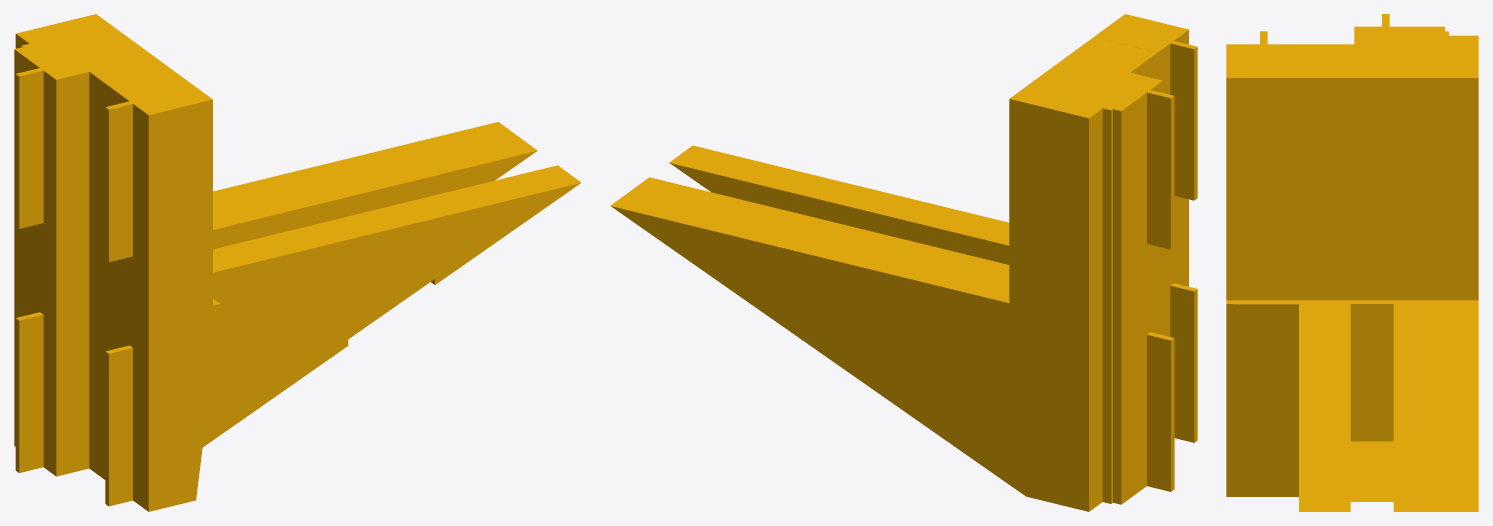
File: transmission_hinge_Mirrored.obj
The picture shows the model from 3 angles, left to right: view 1: azimuth 30°, elevation 25°; view 2: azimuth 150°, elevation 25°; view 3: azimuth 270°, elevation 25°; orthographic projection. The views are drawn at different scales.
Parts seen in each view (by area): view 1: mesh488, mesh468, mesh527, mesh528, mesh484, mesh505, mesh502, mesh529, mesh535, mesh506, mesh538, mesh530 (+7 smaller); view 2: mesh509, mesh505, mesh516, mesh484, mesh491, mesh529, mesh512, mesh506, mesh513, mesh531, mesh537, mesh515 (+8 smaller); view 3: mesh471, mesh466, mesh505, mesh479, mesh504, mesh484, mesh507, mesh529, mesh506, mesh481, mesh497, mesh499 (+11 smaller).
Boxes of the visible parts, x1,y1,x2,y2 form: mesh488: [202, 183, 580, 447]; mesh468: [148, 99, 220, 511]; mesh527: [89, 72, 148, 511]; mesh528: [56, 72, 89, 476]; mesh484: [213, 165, 581, 272]; mesh505: [213, 132, 537, 229]; mesh502: [213, 151, 536, 249]; mesh529: [14, 24, 178, 90]; mesh535: [43, 71, 56, 476]; mesh506: [213, 122, 511, 204]; mesh538: [19, 314, 43, 472]; mesh530: [19, 70, 43, 228]; mesh509: [611, 99, 1088, 511]; mesh505: [624, 177, 1009, 289]; mesh516: [1121, 94, 1144, 504]; mesh484: [669, 145, 1009, 245]; mesh491: [670, 163, 1009, 264]; mesh529: [1023, 38, 1173, 110]; mesh512: [1089, 108, 1102, 511]; mesh506: [610, 196, 1009, 302]; mesh513: [1102, 108, 1111, 503]; mesh531: [1147, 92, 1170, 249]; mesh537: [1147, 335, 1170, 491]; mesh515: [1113, 109, 1121, 504]; mesh471: [1226, 78, 1294, 300]; mesh466: [1226, 304, 1294, 496]; mesh505: [1393, 300, 1448, 511]; mesh479: [1299, 78, 1350, 300]; mesh504: [1393, 78, 1444, 300]; mesh484: [1299, 300, 1350, 511]; mesh507: [1445, 78, 1478, 300]; mesh529: [1299, 14, 1448, 77]; mesh506: [1449, 300, 1478, 511]; mesh481: [1354, 78, 1381, 300]; mesh497: [1354, 304, 1381, 441]; mesh499: [1350, 441, 1393, 501].
Size of the model in its own units: 0.00216 by 0.00156 by 0.000833.
